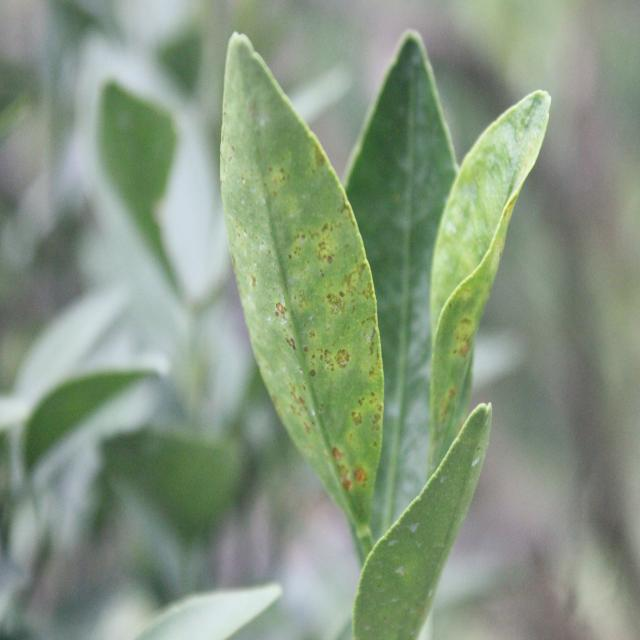canker: (230, 110, 390, 498), (412, 245, 492, 467)
